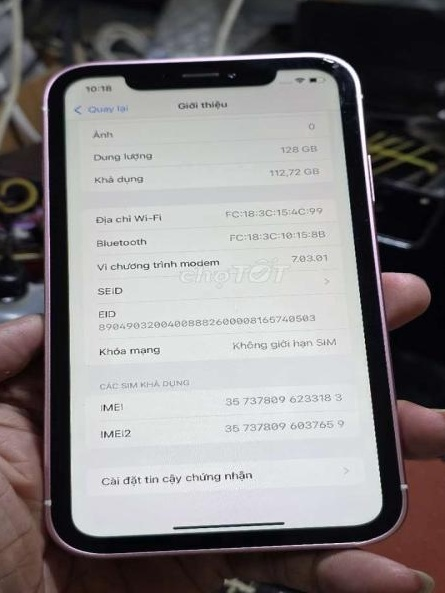scratch: (317, 49, 355, 82)
